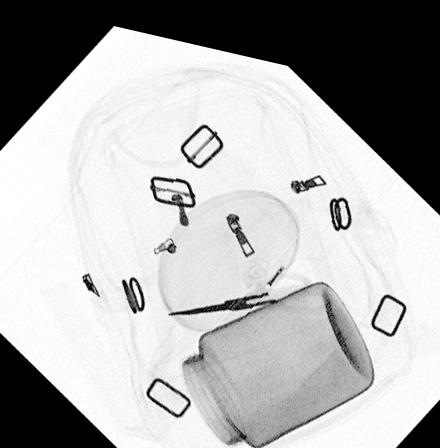Scissors: (166, 256, 331, 310)
